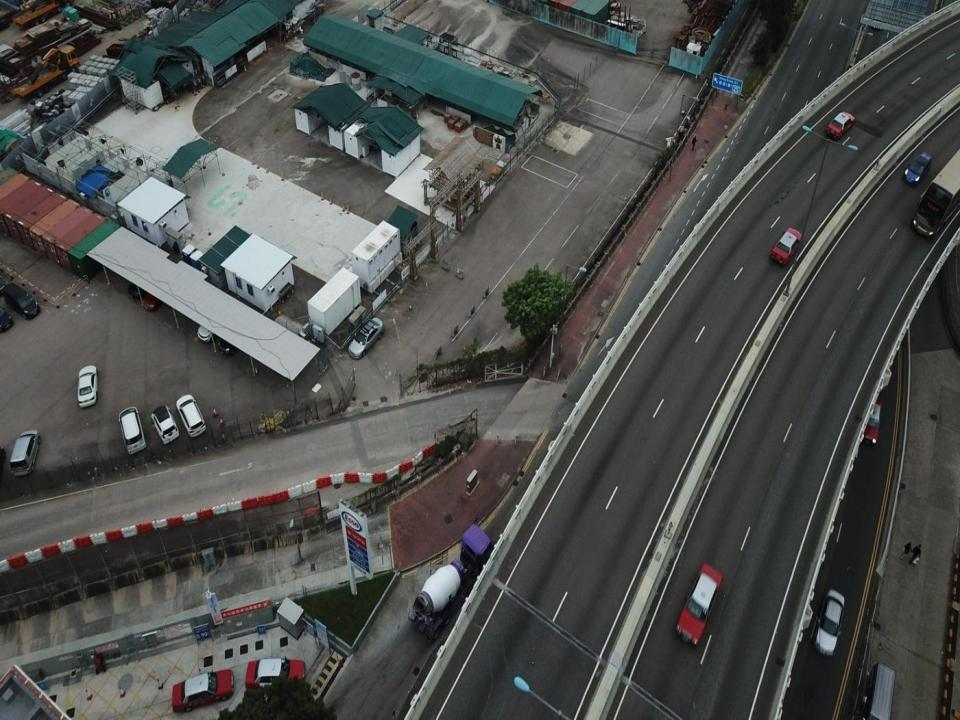car: (672, 562, 722, 648), (169, 668, 235, 710), (812, 586, 847, 658), (244, 655, 307, 694), (852, 394, 886, 445), (348, 314, 382, 364), (3, 282, 42, 324), (9, 427, 41, 475), (771, 224, 805, 267), (118, 404, 146, 456), (176, 390, 205, 438), (900, 148, 934, 185), (126, 264, 167, 294), (75, 364, 100, 410), (140, 273, 170, 311), (827, 107, 856, 142), (152, 404, 178, 443), (195, 307, 217, 342), (217, 326, 240, 357)
truck: (408, 521, 497, 640)
van: (857, 661, 897, 719)
